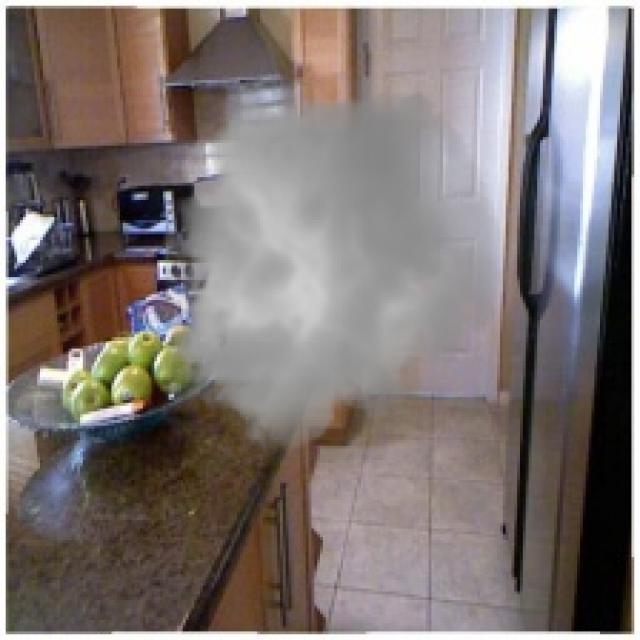smoke: (149, 71, 514, 466)
